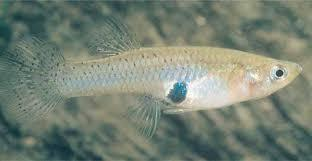Mosquito Fish: (0, 17, 305, 141)
